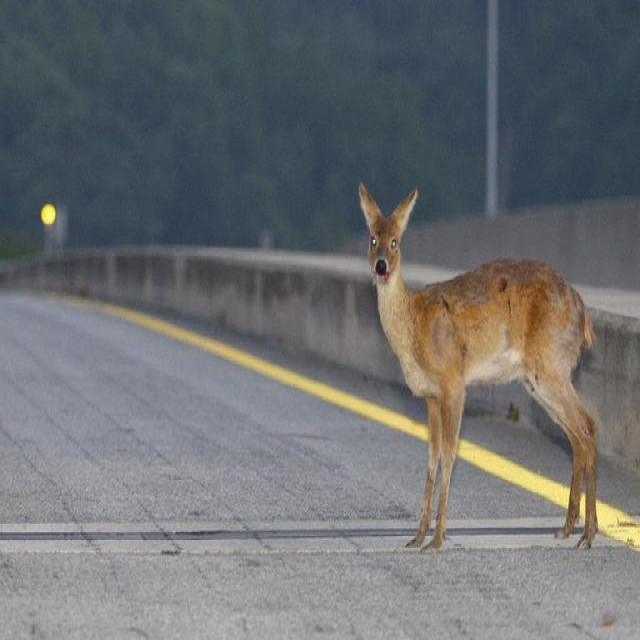deer: (353, 168, 627, 613)
